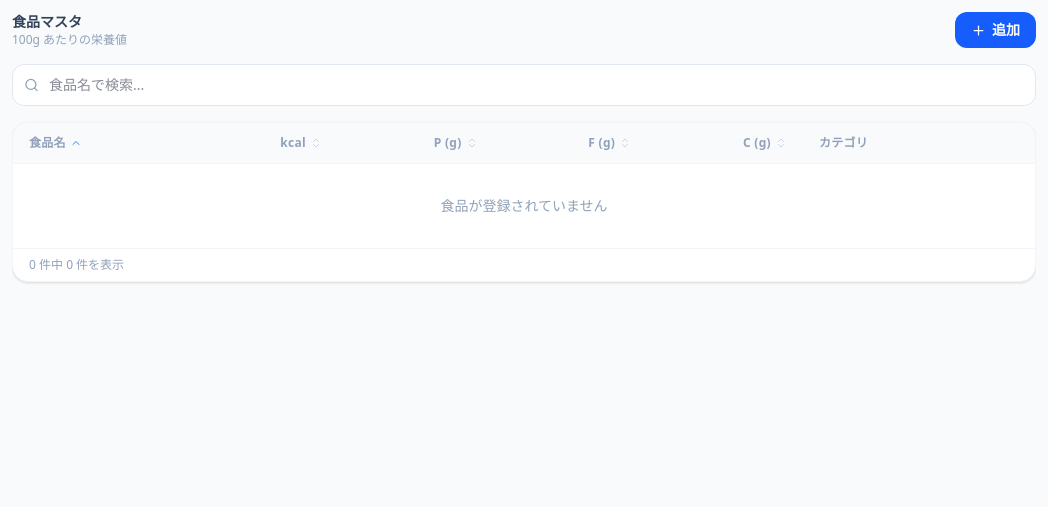
Test: FoodTable — バリデーション › kcal が空のとき「kcal は必須です」を表示
The image size is (1048, 507).
Click the button "追加": click(996, 30) [955,12,1036,48]
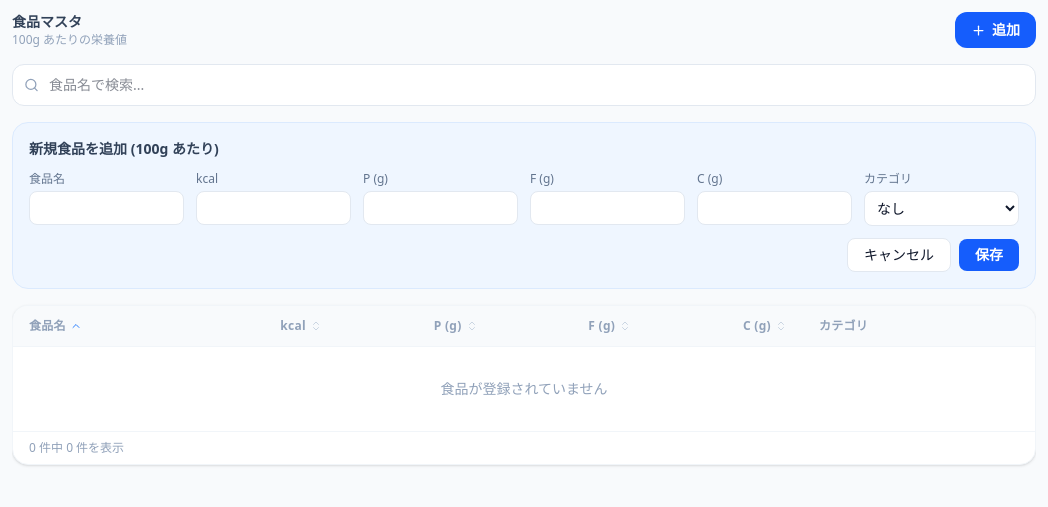
In the 2nd field: (106, 208) [29,191,184,225], type "テスト食品"
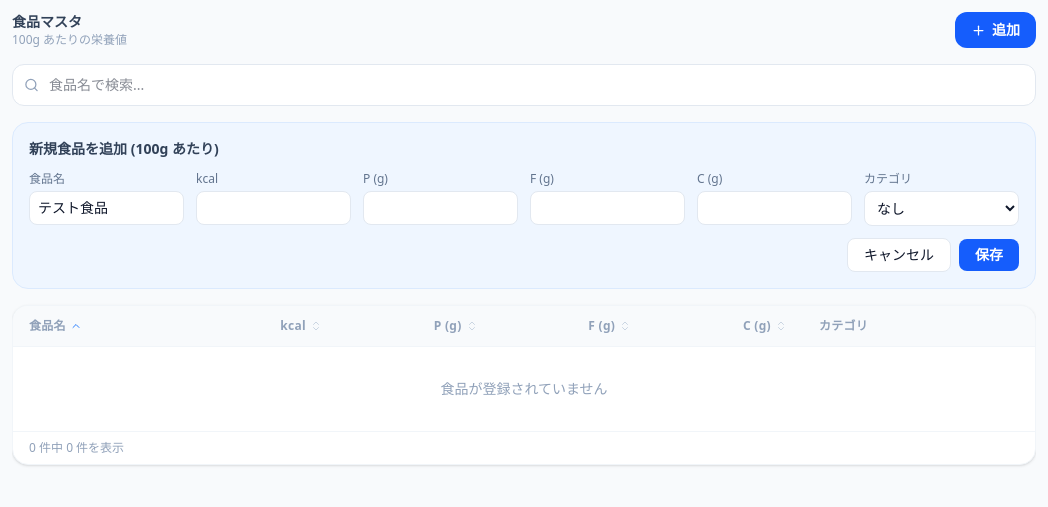
Click the button "保存": click(989, 255) [959,239,1019,271]
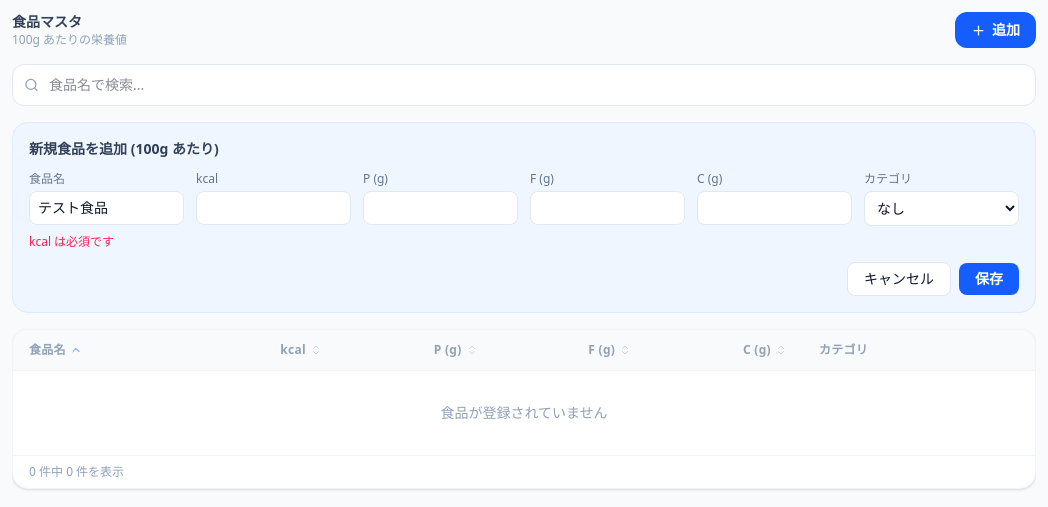
Expected: the text "kcal は必須です" is shown, [29,233,114,250]
